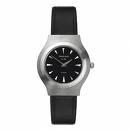watch: (35, 32, 94, 97)
